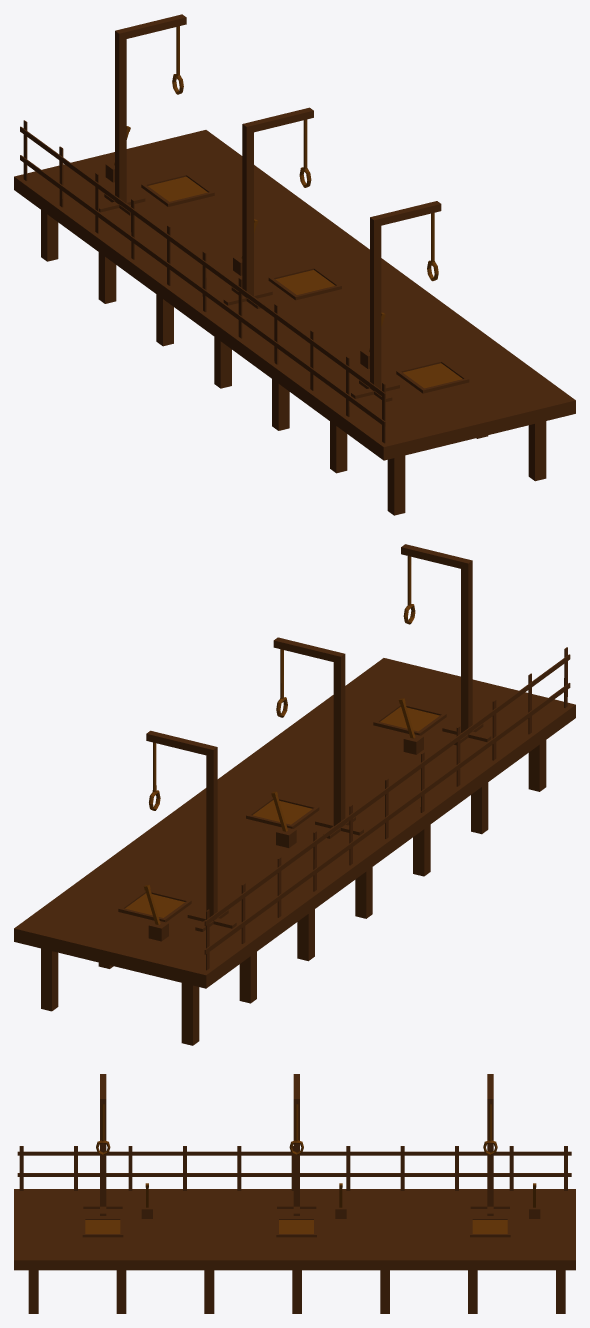
The model's file is schavot.fbx.
3 renders of one model, top to bottom at view 1: azimuth 30°, elevation 25°; view 2: azimuth 150°, elevation 25°; view 3: azimuth 270°, elevation 25°, orthographic. The views are drawn at different scales.
Parts seen in each view (by area): view 1: de strop; view 2: de strop; view 3: de strop.
Part boxes in pixels (left/top/right/bottom): de strop: left=14, top=14, right=575, bottom=515; de strop: left=14, top=544, right=575, bottom=1045; de strop: left=14, top=1074, right=575, bottom=1313.
Size of the model in its own units: 3 by 3.8 by 10.
